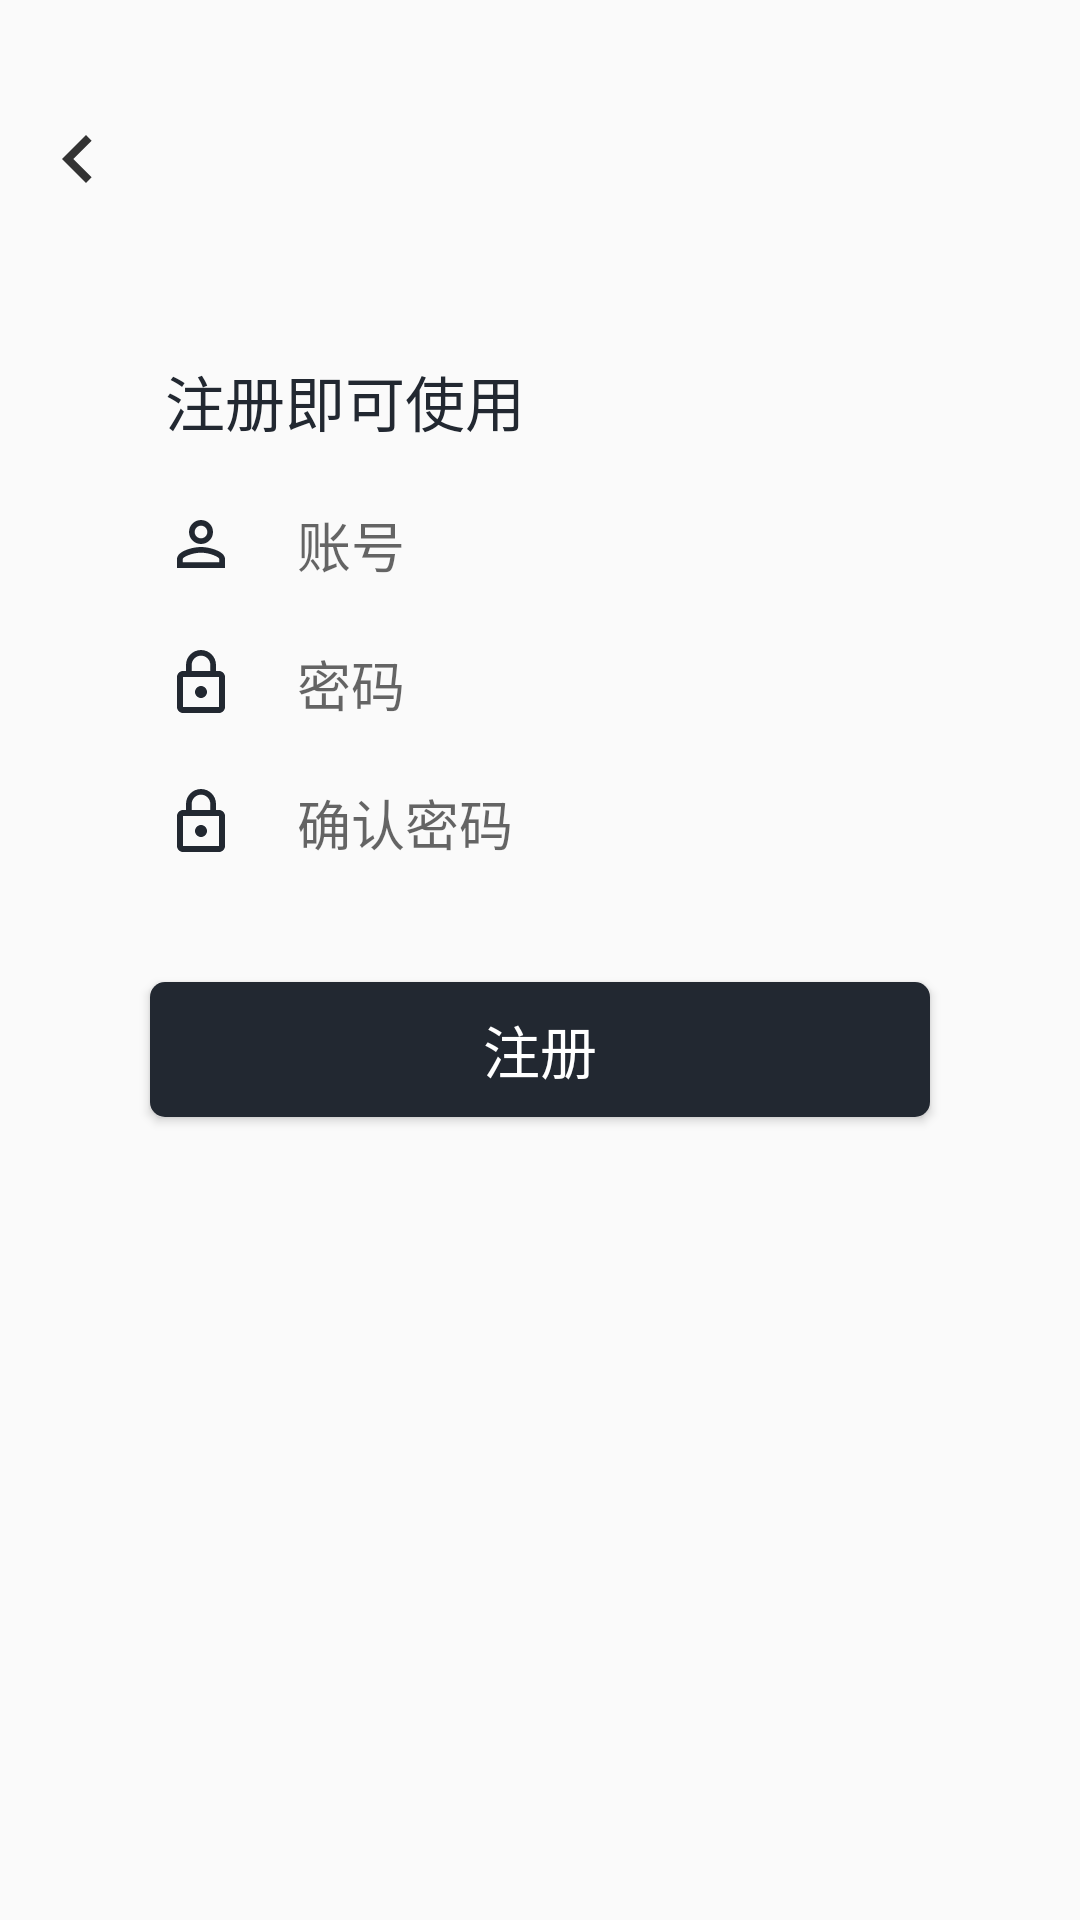

Screen size 1080px x 1920px. Icon name, then its box in pixels as (x1, y1, x2, y2):
navigate before: (62, 135, 92, 183)
